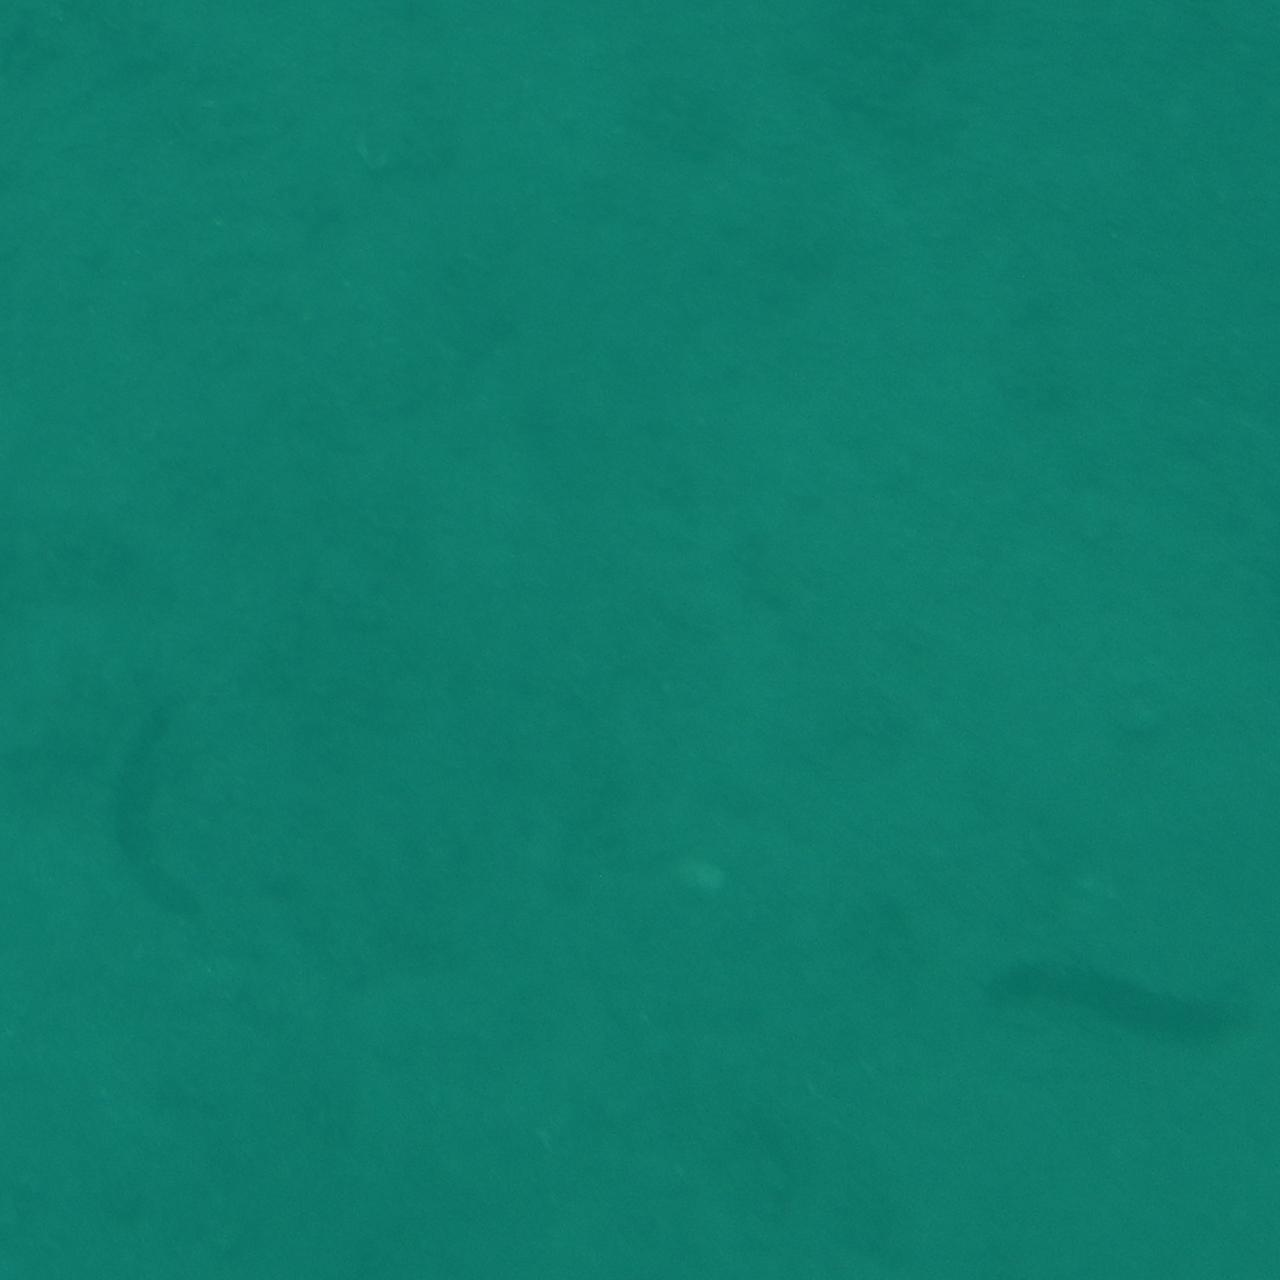Holothuria tubulosa: (972, 930, 1268, 1070), (88, 672, 234, 945)
